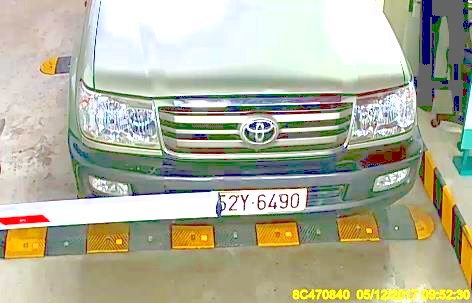plate: (207, 187, 311, 218)
